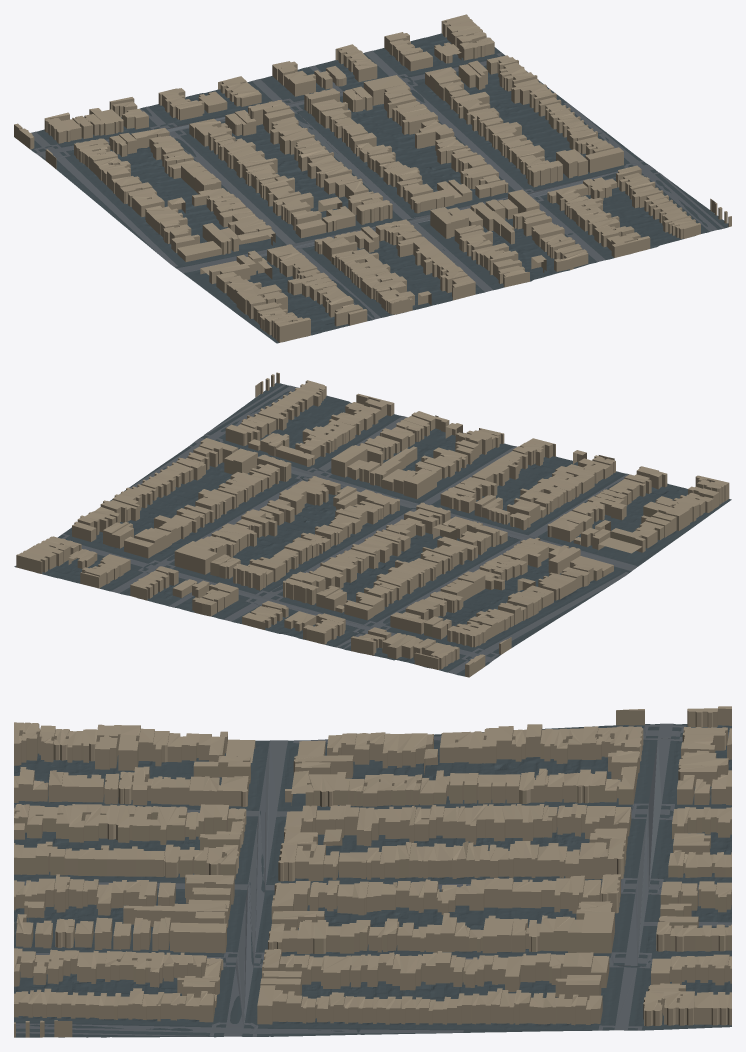
Rendered from epsg26910-1425-10888.lod0.glb.
The picture shows the model from 3 angles, top to bottom: view 1: azimuth 30°, elevation 25°; view 2: azimuth 150°, elevation 25°; view 3: azimuth 270°, elevation 25°; orthographic projection. The views are drawn at different scales.
Parts seen in each view (by area): view 1: epsg26910-1425-10888-lod0; view 2: epsg26910-1425-10888-lod0; view 3: epsg26910-1425-10888-lod0.
Part boxes in pixels (x1,y1,x2,y2): epsg26910-1425-10888-lod0: (14, 14, 731, 343); epsg26910-1425-10888-lod0: (14, 372, 731, 677); epsg26910-1425-10888-lod0: (14, 706, 731, 1037).
Bounding box in the file's own units: 384 × 22.21 × 384.
